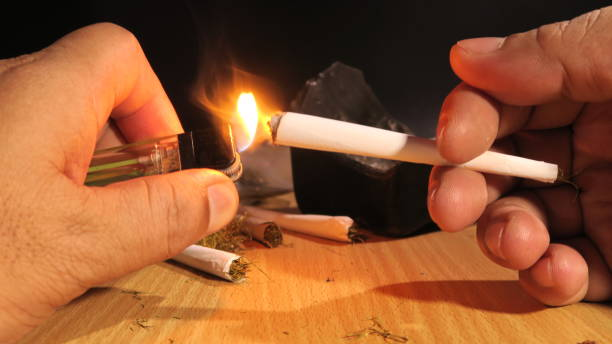cigarette: (253, 110, 559, 187), (237, 203, 363, 242), (171, 245, 250, 285), (230, 214, 284, 249)
